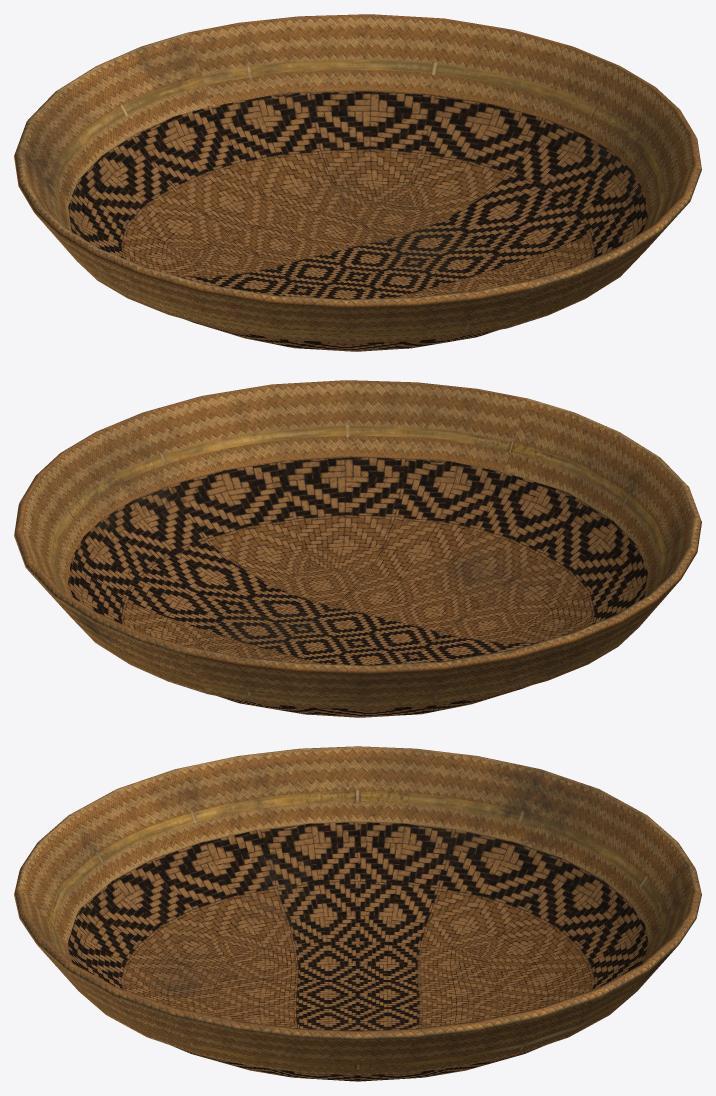
File: SM_Canasto.glb
The picture shows the model from 3 angles, top to bottom: view 1: azimuth 30°, elevation 25°; view 2: azimuth 150°, elevation 25°; view 3: azimuth 270°, elevation 25°; orthographic projection.
Visible parts, largest first — view 1: SM_Canasto; view 2: SM_Canasto; view 3: SM_Canasto.
Part boxes in pixels (box(x1,y1,x2,y2)): SM_Canasto: box(14, 14, 701, 351); SM_Canasto: box(14, 380, 701, 717); SM_Canasto: box(14, 746, 701, 1081).
Size of the model in its own units: 0.5063 by 0.0969 by 0.5074.
1 material, 1 textured.
